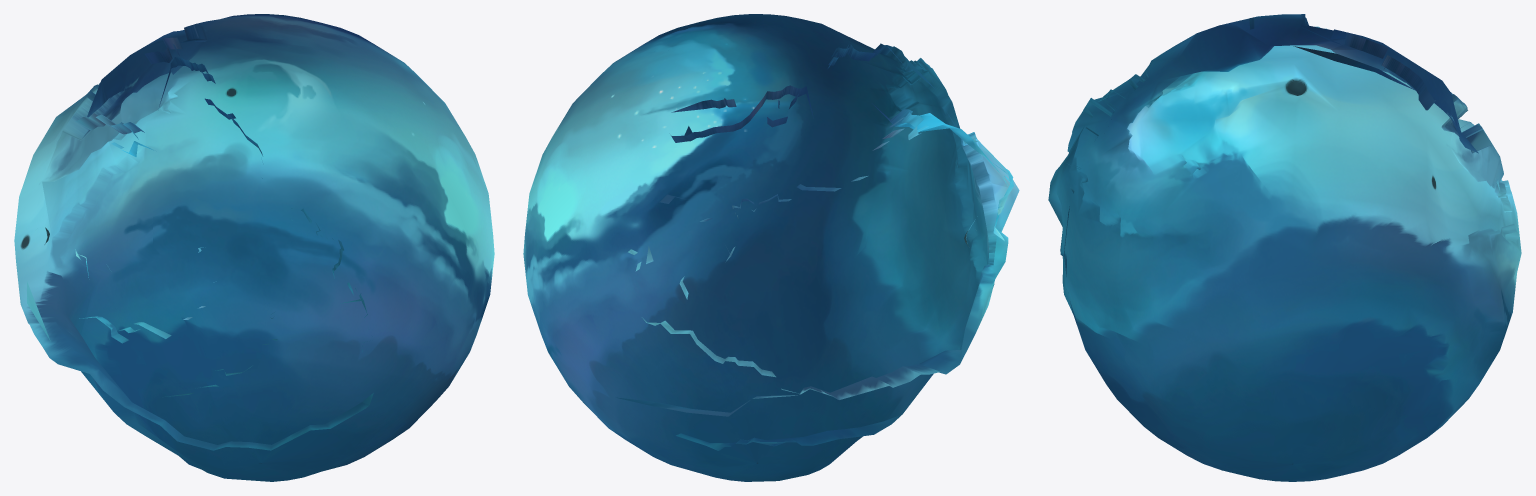
File: fantasy_skybox.glb
3 views of the same model, side by side, from view 1: azimuth 30°, elevation 25°; view 2: azimuth 150°, elevation 25°; view 3: azimuth 270°, elevation 25° (orthographic). The views are drawn at different scales.
Visible parts, largest first — view 1: sky; view 2: sky; view 3: sky.
Part boxes in pixels (left/top/right/bottom): sky: left=14, top=14, right=494, bottom=481; sky: left=523, top=14, right=1019, bottom=481; sky: left=1048, top=14, right=1521, bottom=481.
Size of the model in its own units: 21.51 by 20.18 by 20.68.
Materials: 1 (1 with a texture image).
